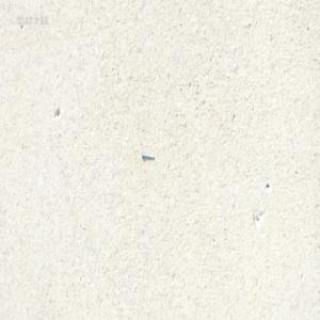Nailtrack_idkeyframe: (140, 150, 153, 158)
